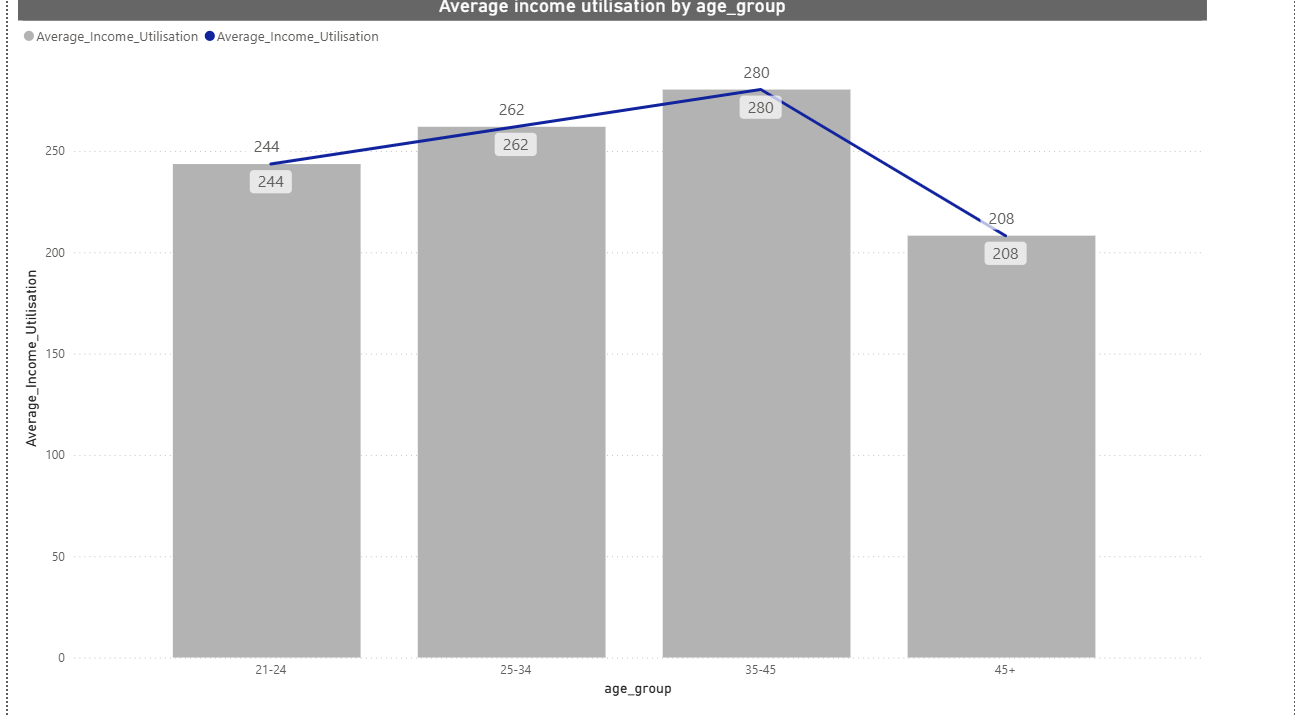

What the dashboard file says about the page in this screenshot:
{"tool":"powerbi","page":{"name":"Average income utlisation by age_group","canvas":[1280,720],"ordinal":3},"visuals":[{"type":"lineStackedColumnComboChart","title":"Average income utilisation by age_group","fields":{"Category":["dim_customers.age_group"],"Y":["MSRES.Average_Income_Utilisation"],"Y2":["MSRES.Average_Income_Utilisation"]},"box":[10,0,1183,704.1],"z":0}]}

Visuals, with their boxes in screenshot pixels (x1, y1, x2, y2), scaled from the page's 1280x720 canvas onto the 1295x716 screenshot:
"Average income utilisation by age_group" lineStackedColumnComboChart: 10/0/1207/700
